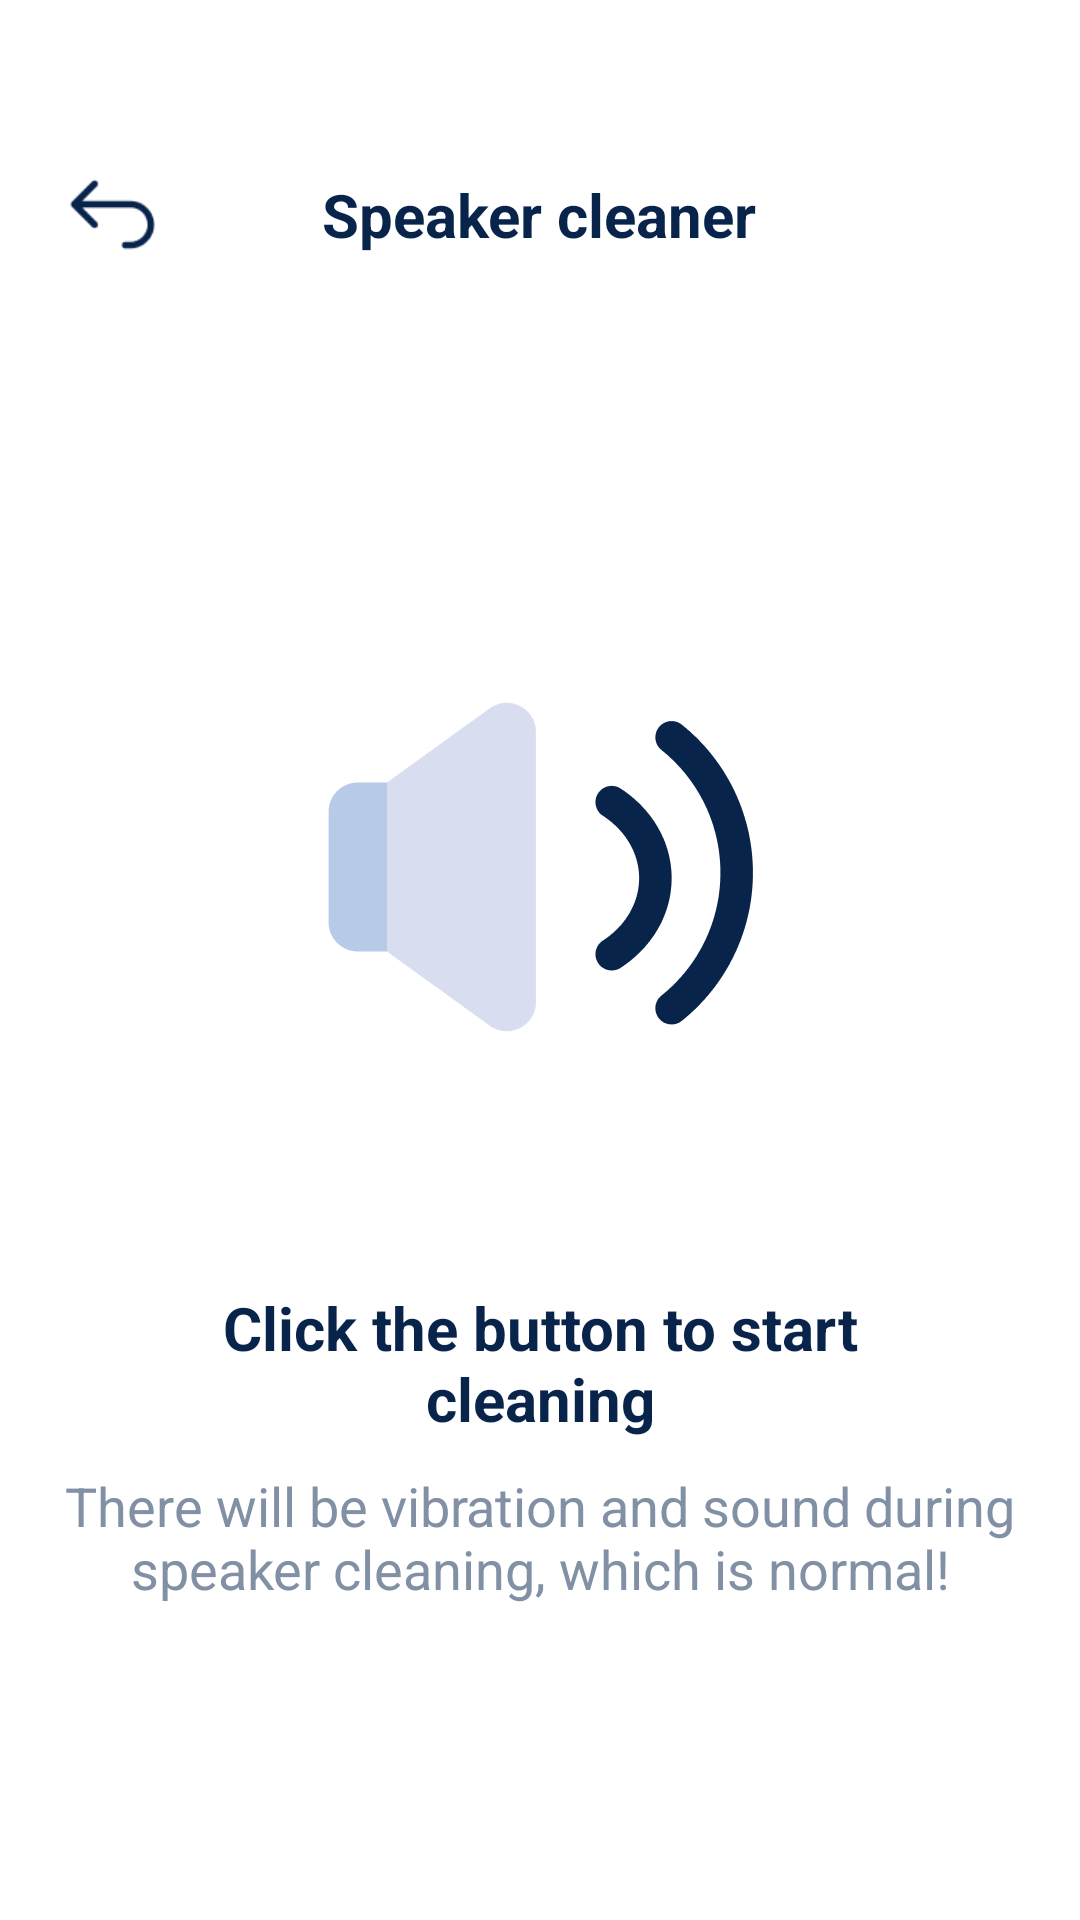

Named icons in this screenshot (1080×1920) and their centers, point (x, y):
back: point (112, 215)
